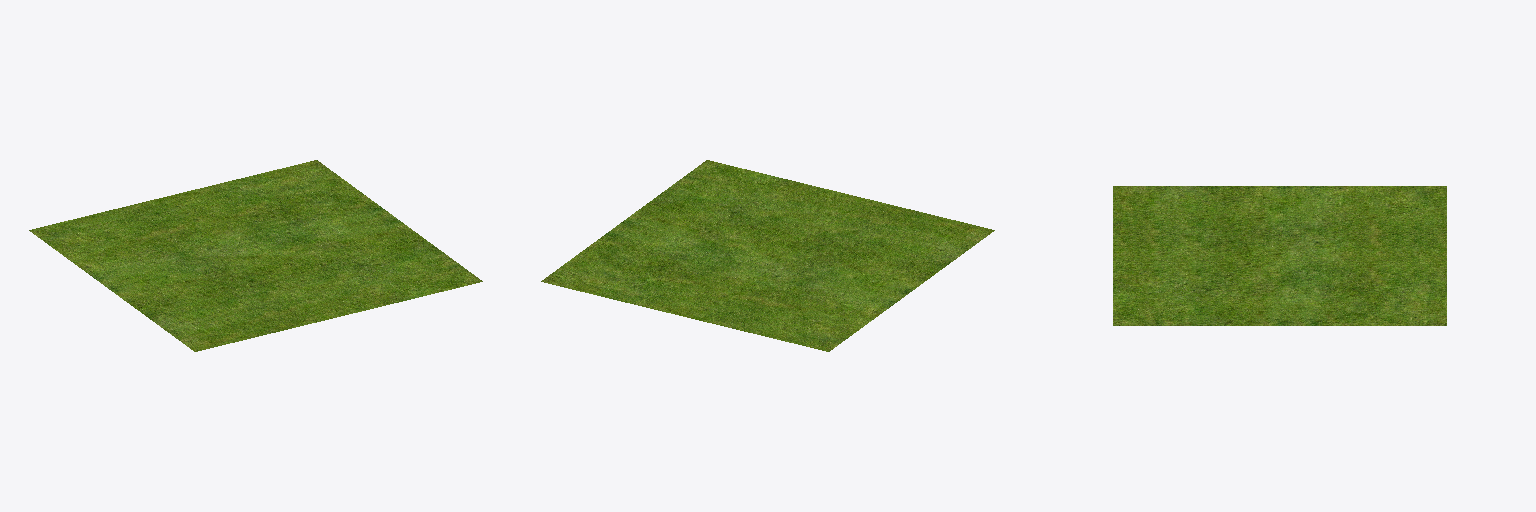
3 renders of one model, left to right at view 1: azimuth 30°, elevation 25°; view 2: azimuth 150°, elevation 25°; view 3: azimuth 270°, elevation 25°, orthographic.
Parts seen in each view (by area): view 1: Plane; view 2: Plane; view 3: Plane.
Part boxes in pixels (bbox=[...]): Plane: bbox=[29, 160, 482, 351]; Plane: bbox=[541, 160, 994, 351]; Plane: bbox=[1113, 186, 1446, 325].
Size of the model in its own units: 12.87 by 0 by 12.87.
1 materials, 1 textured.